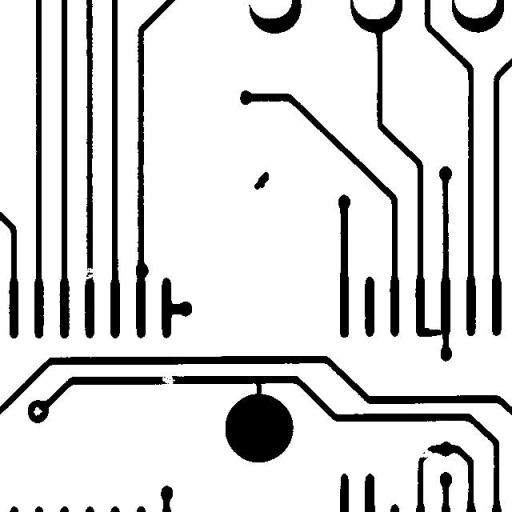copper: (246, 164, 276, 197)
open: (410, 437, 441, 465), (154, 366, 182, 396), (75, 260, 102, 286)
pin-hole: (26, 399, 50, 423)
short: (409, 320, 452, 344), (248, 374, 269, 402)
